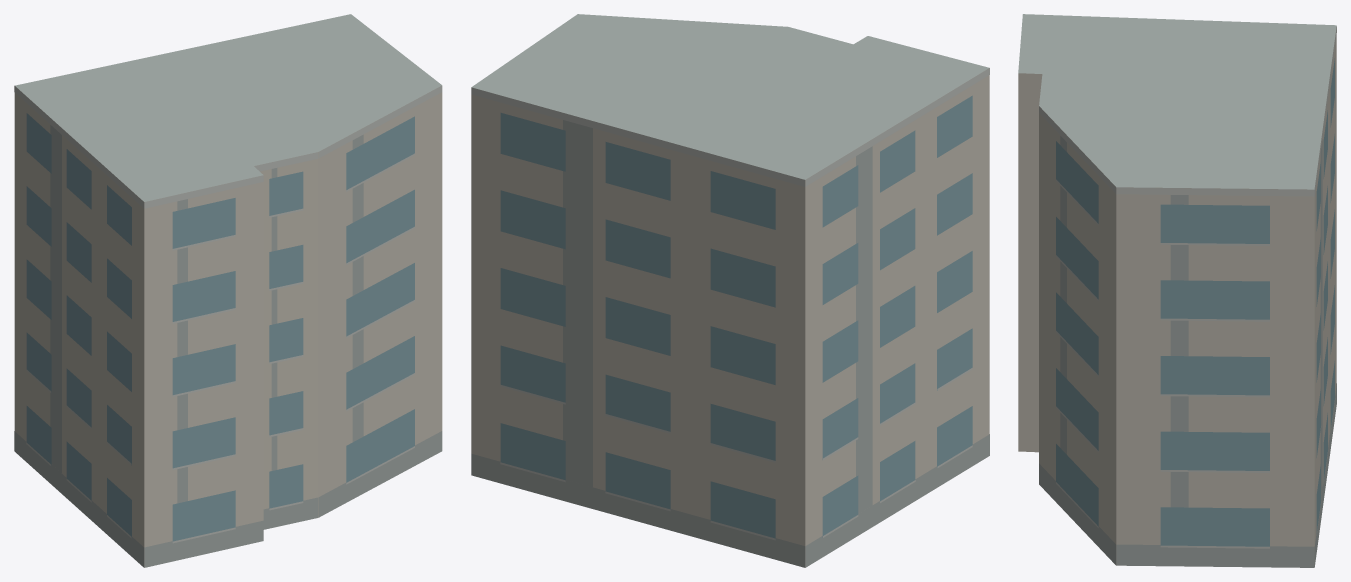
The model's file is survey-upis-32474816.glb.
3 renders of one model, left to right at view 1: azimuth 30°, elevation 25°; view 2: azimuth 150°, elevation 25°; view 3: azimuth 270°, elevation 25°, orthographic. The views are drawn at different scales.
Visible parts, largest first — view 1: survey-upis-32474816.tmp; view 2: survey-upis-32474816.tmp; view 3: survey-upis-32474816.tmp.
Boxes of the visible parts, x1,y1,x2,y2 form: survey-upis-32474816.tmp: (14,14,442,567); survey-upis-32474816.tmp: (471,14,989,567); survey-upis-32474816.tmp: (1018,14,1336,567).
Bounding box in the file's own units: 13.18 × 13.24 × 10.12.
